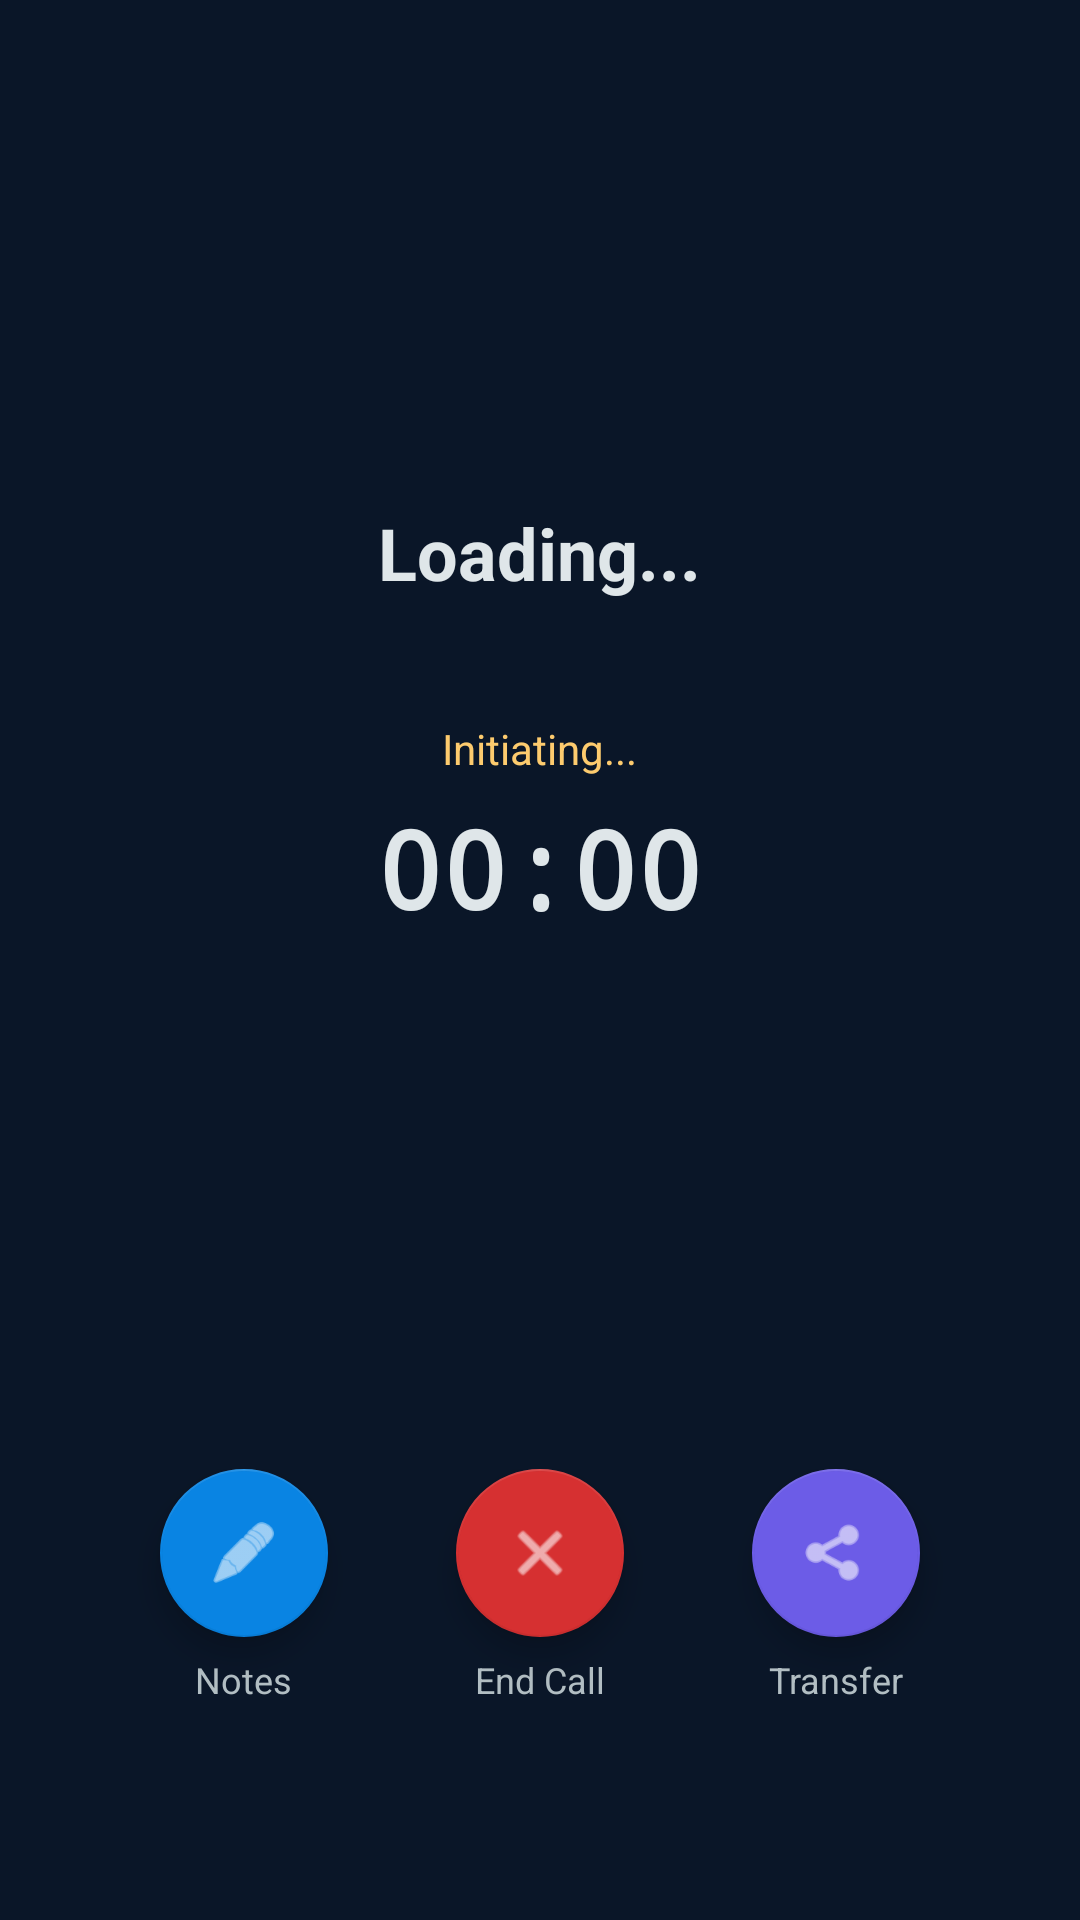

Screen size 1080 × 1920. Icon name, then its box in pixels as bbox=(x1, y1, x2, y2):
close clear cancel: bbox=(456, 1469, 624, 1637)
edit: bbox=(160, 1469, 328, 1637)
share: bbox=(752, 1469, 920, 1637)
